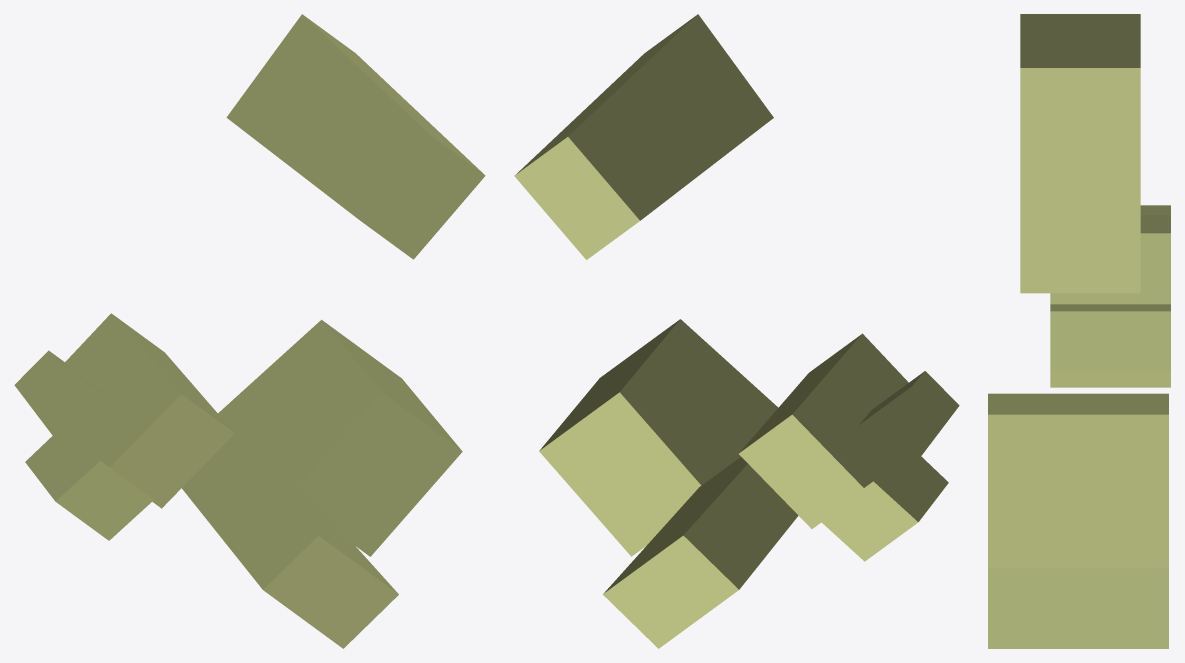
The picture shows the model from 3 angles, left to right: view 1: azimuth 30°, elevation 25°; view 2: azimuth 150°, elevation 25°; view 3: azimuth 270°, elevation 25°; orthographic projection. The views are drawn at different scales.
Visible parts, largest first — view 1: 0_1_0_0_2_1_1_3_0; view 2: 0_1_0_0_2_1_1_3_0; view 3: 0_1_0_0_2_1_1_3_0.
Boxes of the visible parts, <box> form: 0_1_0_0_2_1_1_3_0: <box>14,14,485,648</box>; 0_1_0_0_2_1_1_3_0: <box>514,14,959,648</box>; 0_1_0_0_2_1_1_3_0: <box>988,14,1170,648</box>.
Bounding box in the file's own units: 26.1 × 35.7 × 9.1.
